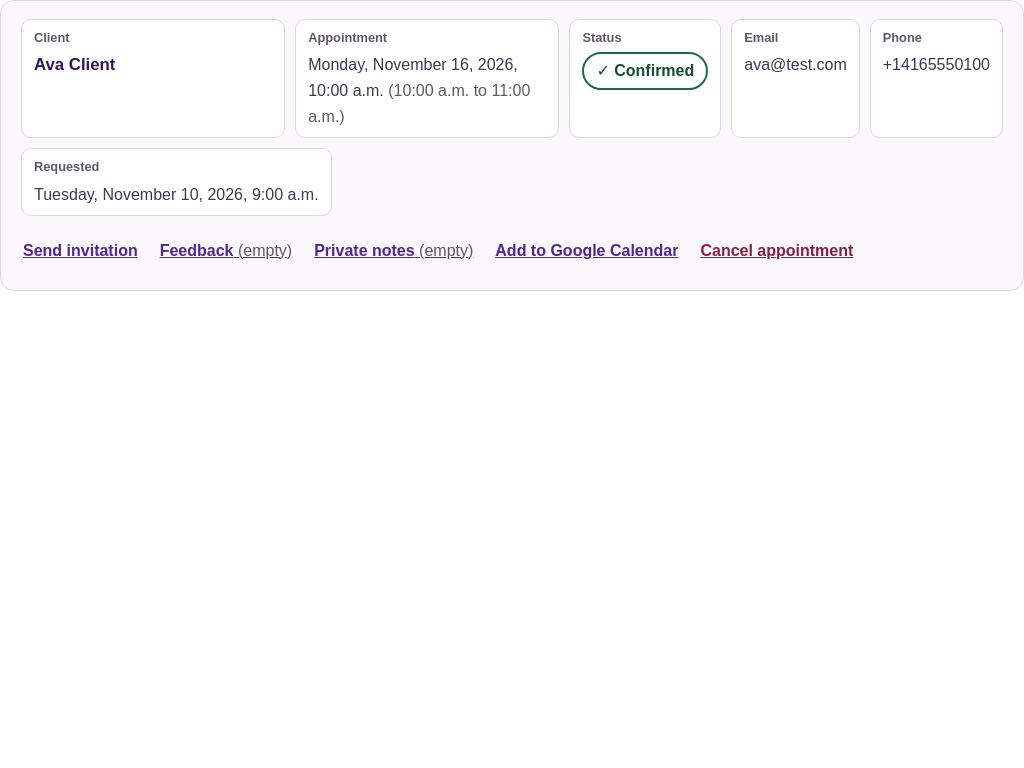
Test: AdminAppointmentCard: cancel › asks for an optional reason
Click the button "Cancel appointment".
click(777, 250)  # box [698,228,855,272]
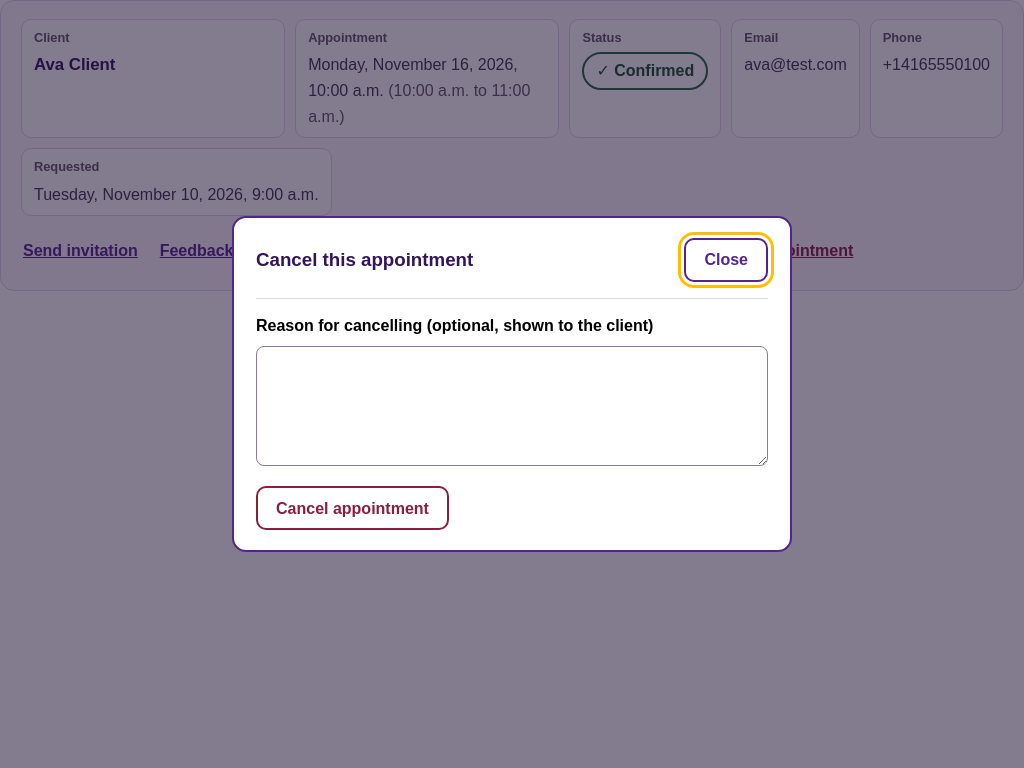
Check: the text box labelled "Reason for cancelling (optional, shown to the client)" is shown, box [256,346,768,466]
